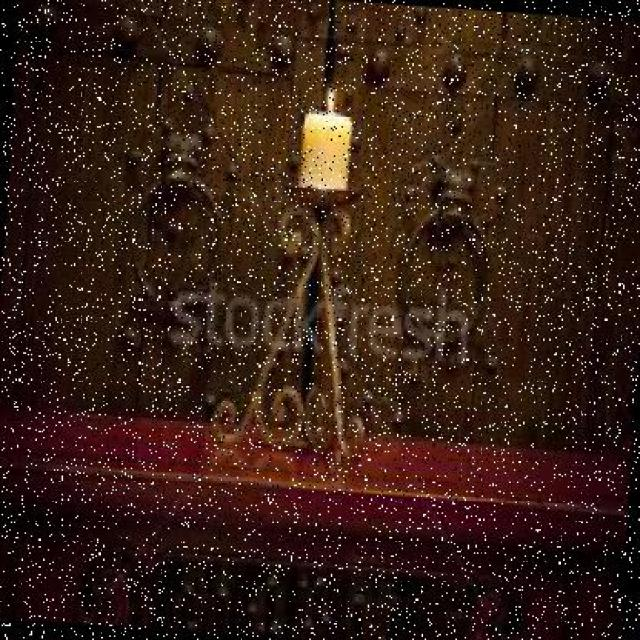fire: (320, 70, 340, 116)
